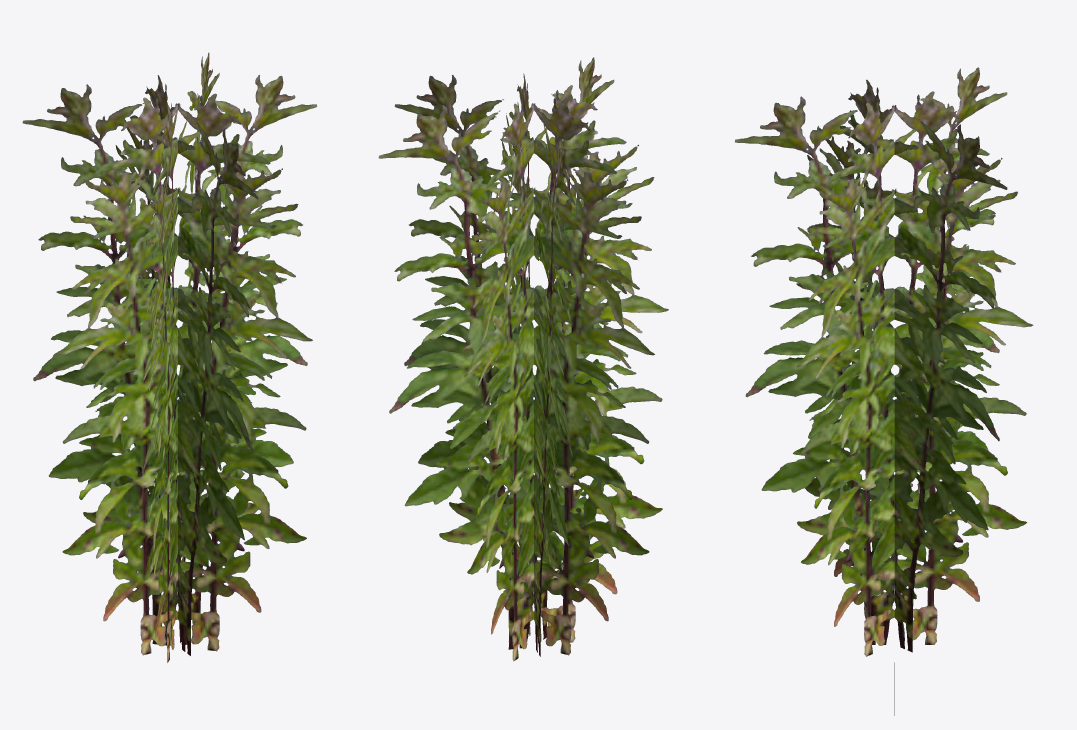
The model's file is Plant-01.fbx.
3 views of the same model, side by side, from view 1: azimuth 30°, elevation 25°; view 2: azimuth 150°, elevation 25°; view 3: azimuth 270°, elevation 25° (orthographic).
Visible parts, largest first — view 1: Plant-01; view 2: Plant-01; view 3: Plant-01.
Part boxes in pixels (<box>): Plant-01: <box>22,52,317,662</box>; Plant-01: <box>378,57,668,661</box>; Plant-01: <box>735,67,1033,715</box>.
Bounding box in the file's own units: 55.01 × 101 × 55.01.
